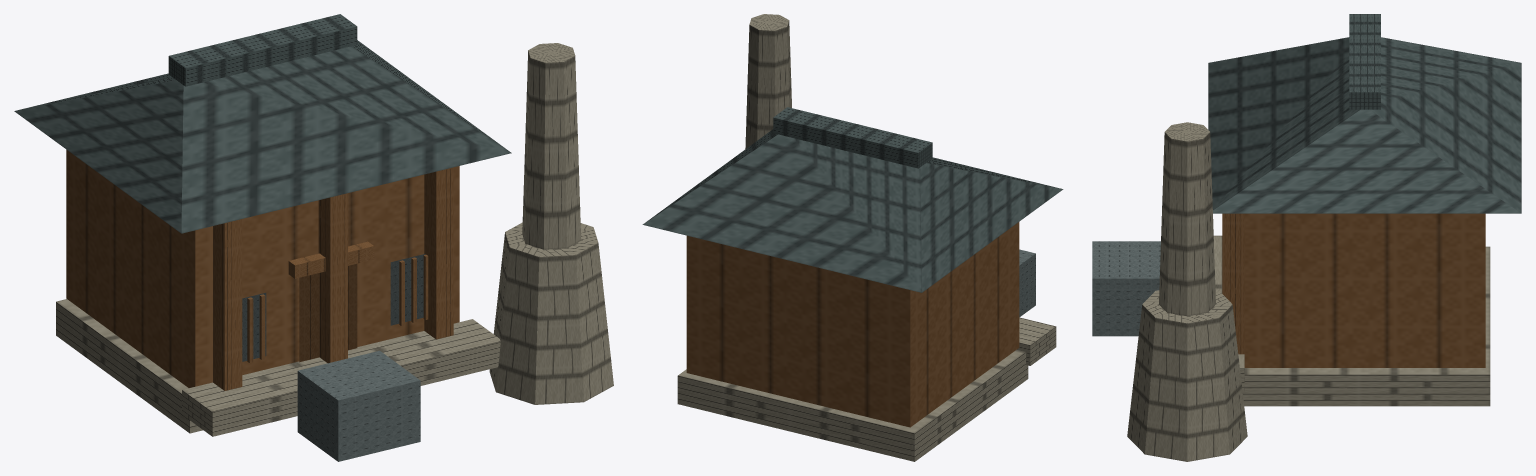
File: domestic-SMITH-1-lod0.glb
3 views of the same model, side by side, from view 1: azimuth 30°, elevation 25°; view 2: azimuth 150°, elevation 25°; view 3: azimuth 270°, elevation 25° (orthographic). The views are drawn at different scales.
Bounding box in the file's own units: 0.7063 × 0.53 × 0.677.
Materials: 1 (1 with a texture image).
